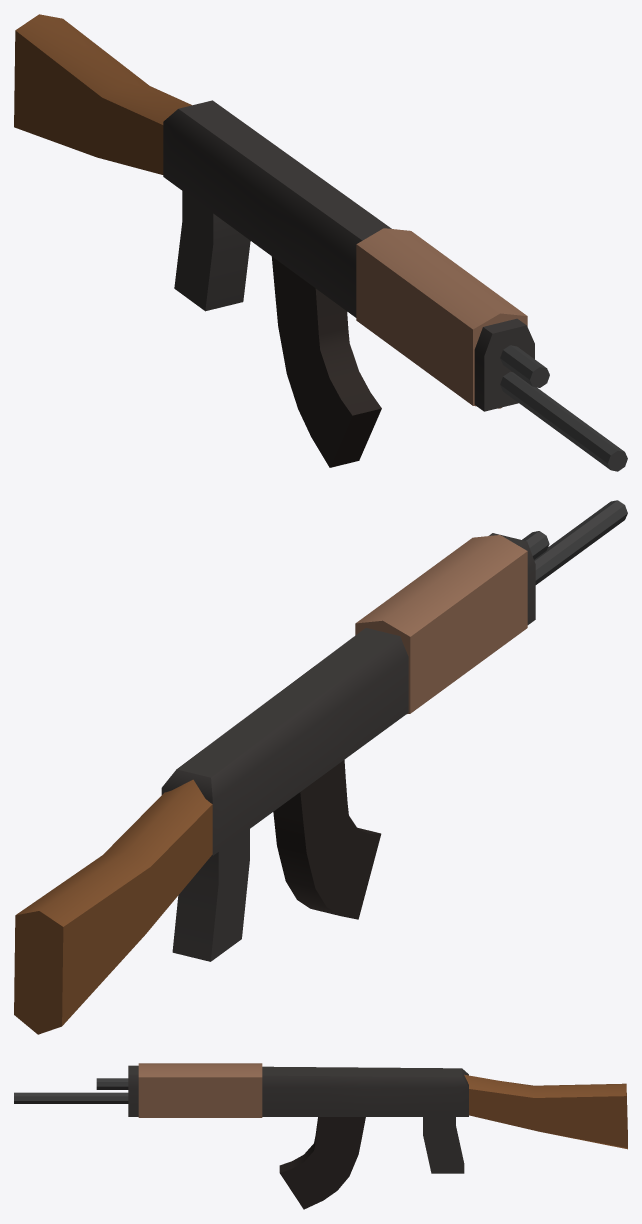
File: MachineGun.fbx
3 views of the same model, one above another, from view 1: azimuth 30°, elevation 25°; view 2: azimuth 150°, elevation 25°; view 3: azimuth 270°, elevation 25° (orthographic). The views are drawn at different scales.
Parts seen in each view (by area): view 1: MachineGun; view 2: MachineGun; view 3: MachineGun.
Part boxes in pixels (x1,y1,x2,y2): MachineGun: (14,14,627,471); MachineGun: (14,500,627,1034); MachineGun: (14,1063,627,1209).
Size of the model in its own units: 4.48 by 20.7 by 81.91.
